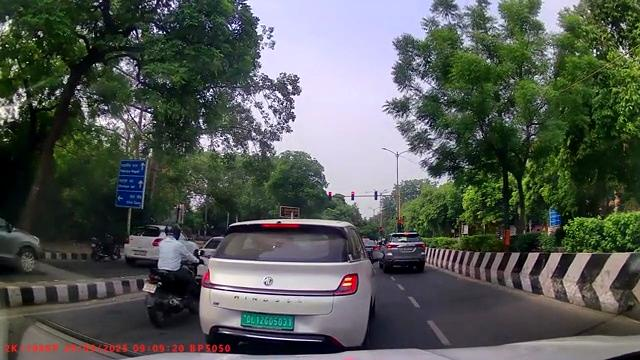motorcycle_with_helmet: (143, 220, 200, 327)
